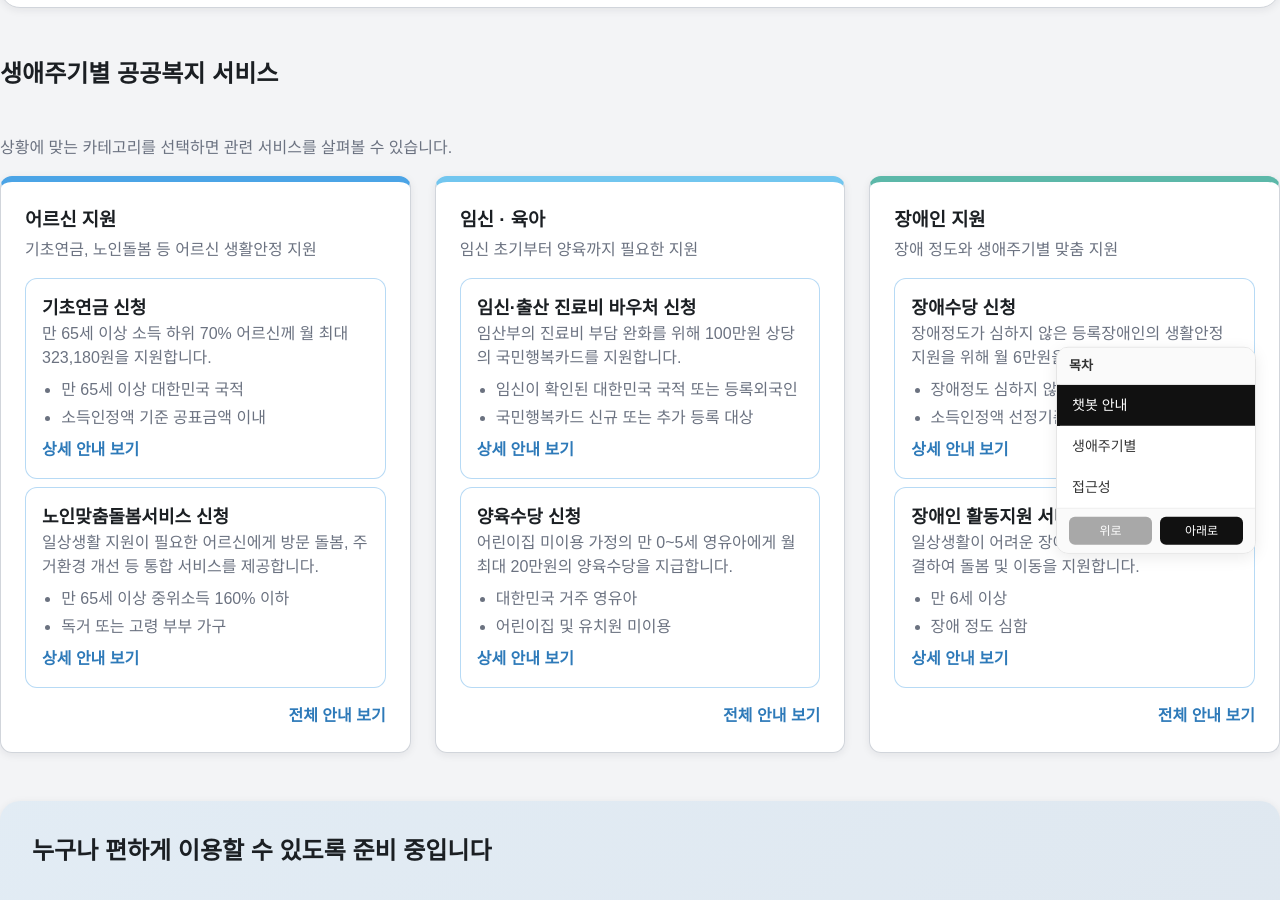
it: HomePage category navigation › opens service detail guidance from life-event category
This screenshot has width=1280, height=900.
(page scrolled)
Click the link with aria-label "기초연금 신청 상세 안내 보기" at (91, 450), box left=42, top=441, right=139, bottom=458
(page scrolled)
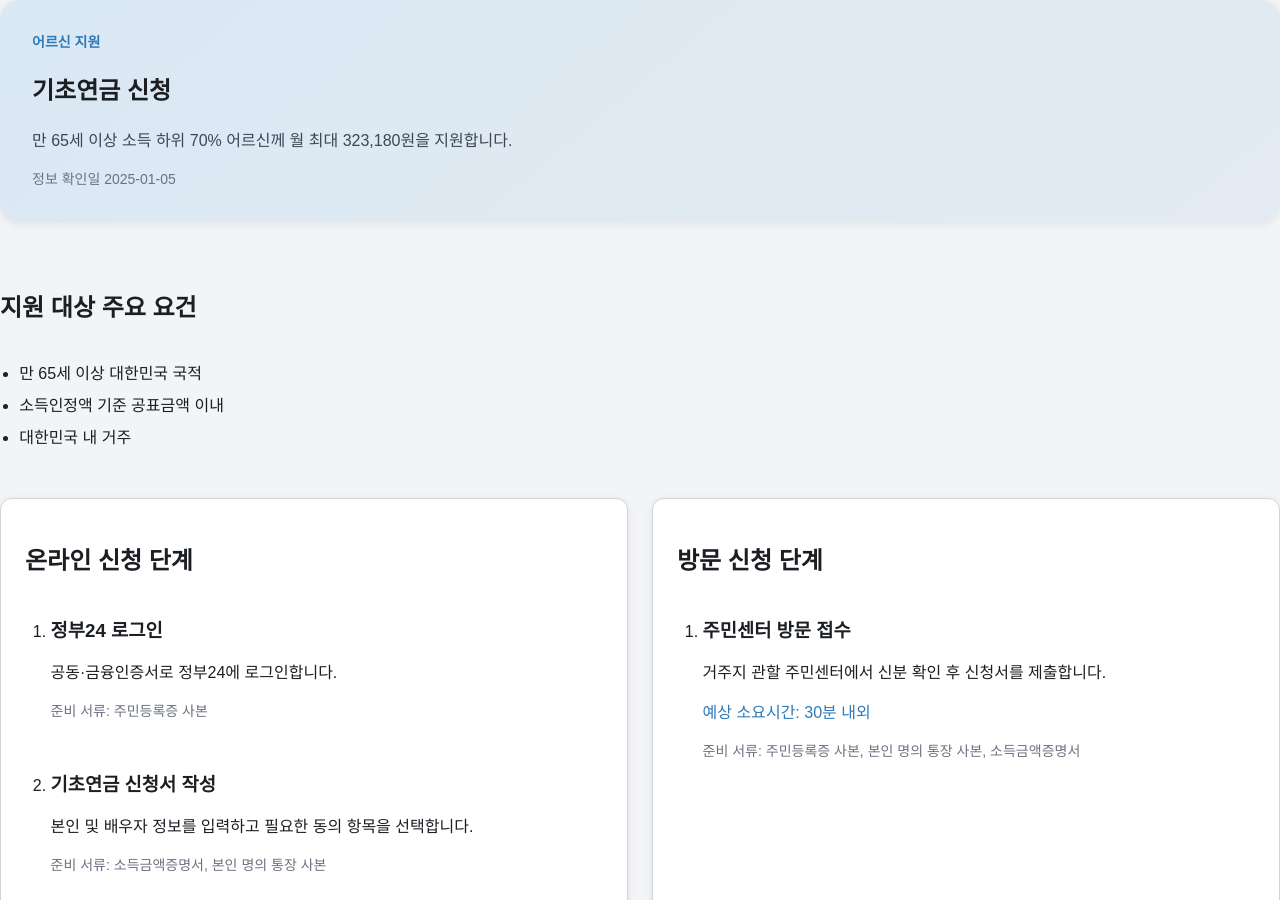
Expected: the heading "기초연금 신청" is shown, left=32, top=77, right=171, bottom=104
Expected: the heading "지원 대상 주요 요건" is shown, left=0, top=294, right=197, bottom=321
